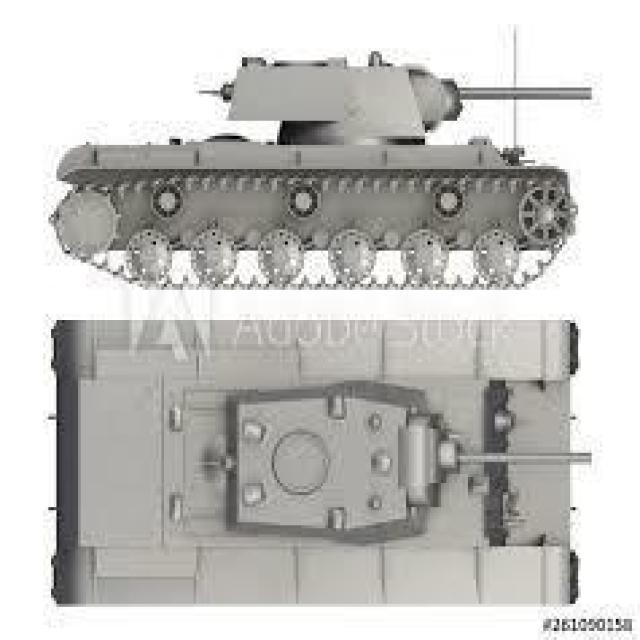MIL_MBT: (48, 311, 594, 619), (46, 33, 594, 290)
